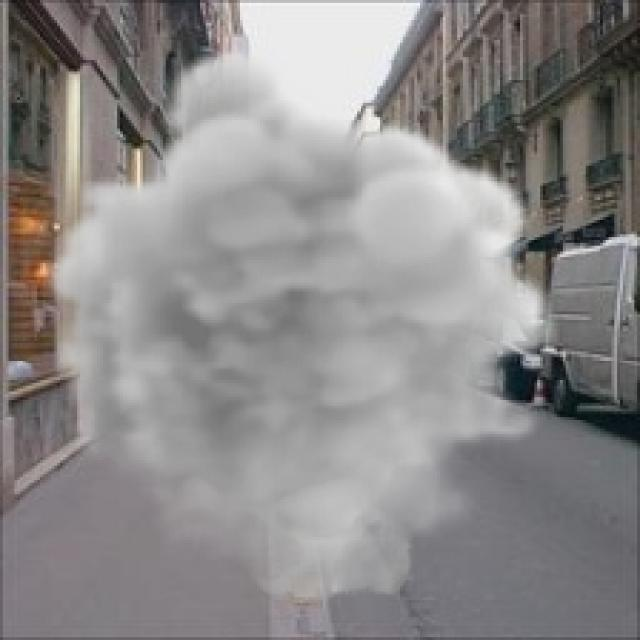smoke: (43, 40, 560, 606)
